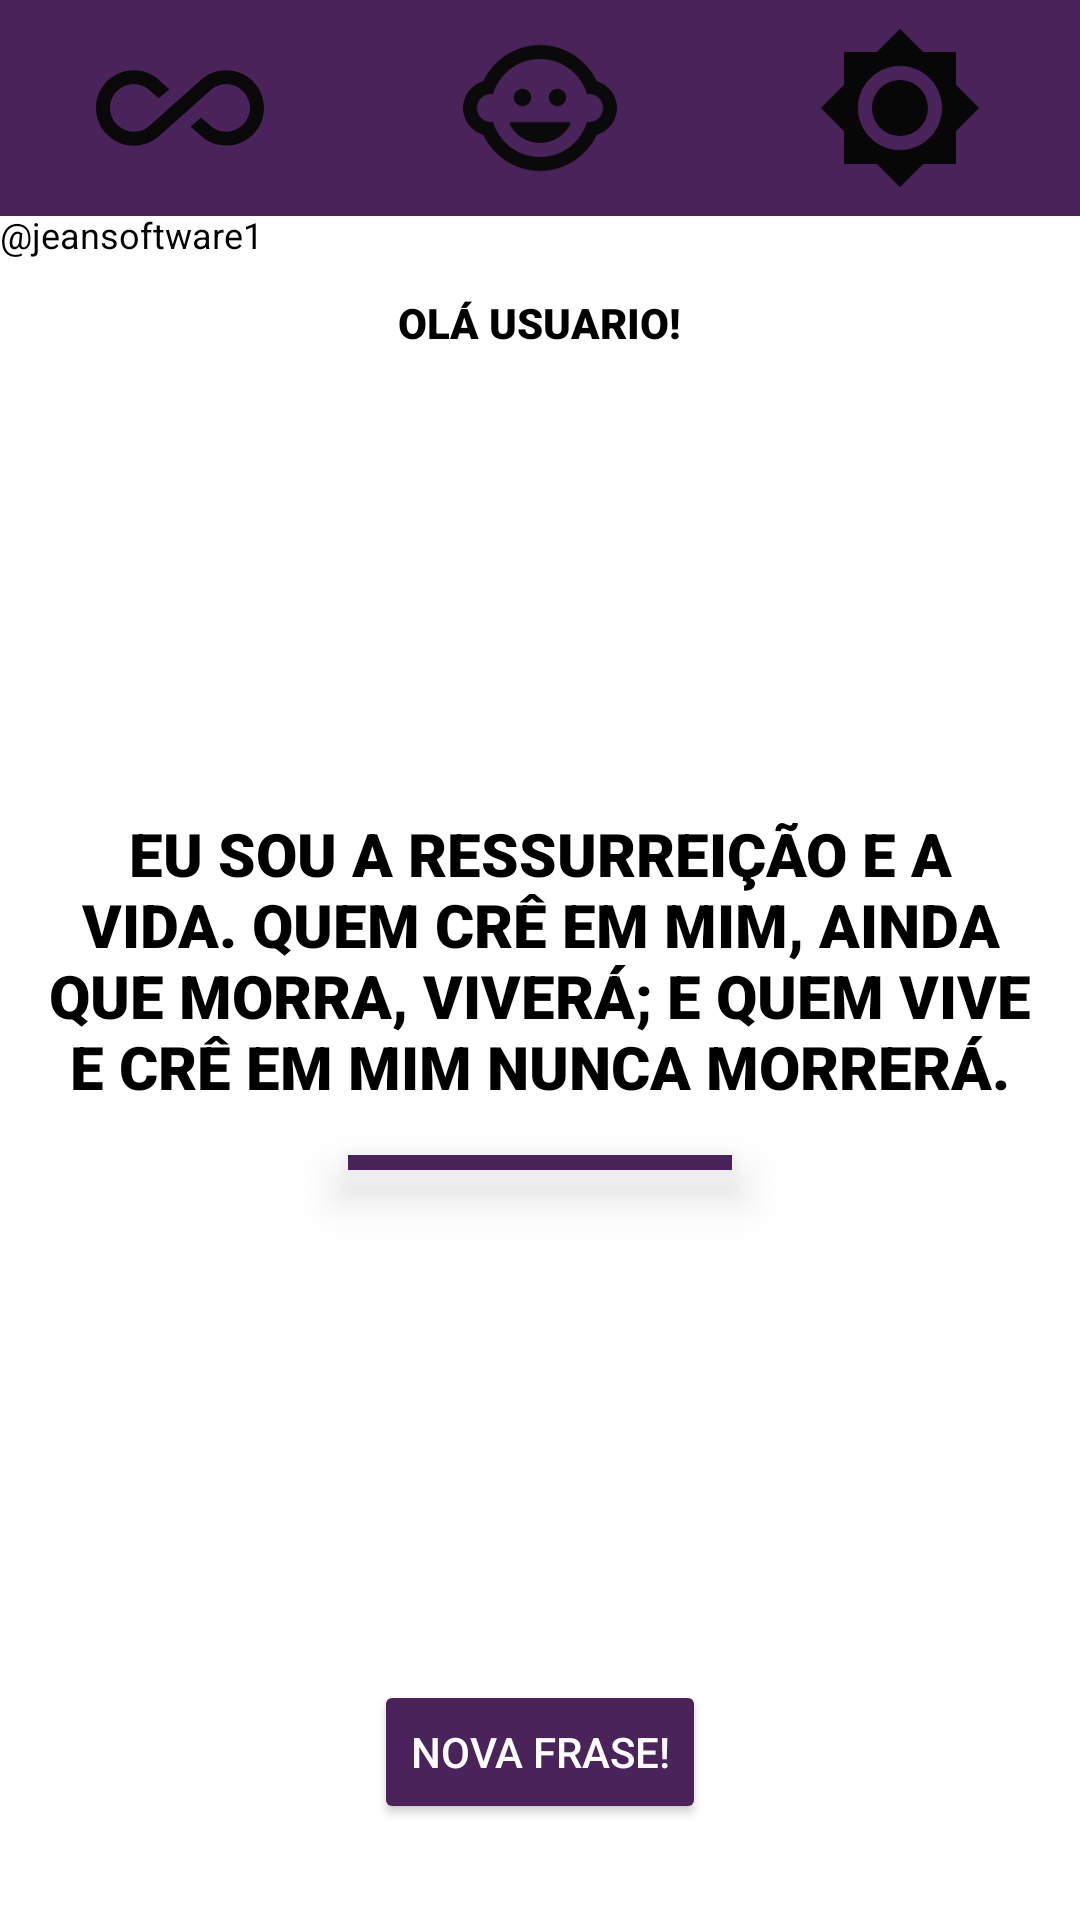

Where icons sit on this 1080w x 1920h app screen, as region(x1, y1, x2, y2):
child: region(463, 45, 617, 171)
infinity: region(96, 70, 264, 146)
sun: region(821, 29, 979, 187)
